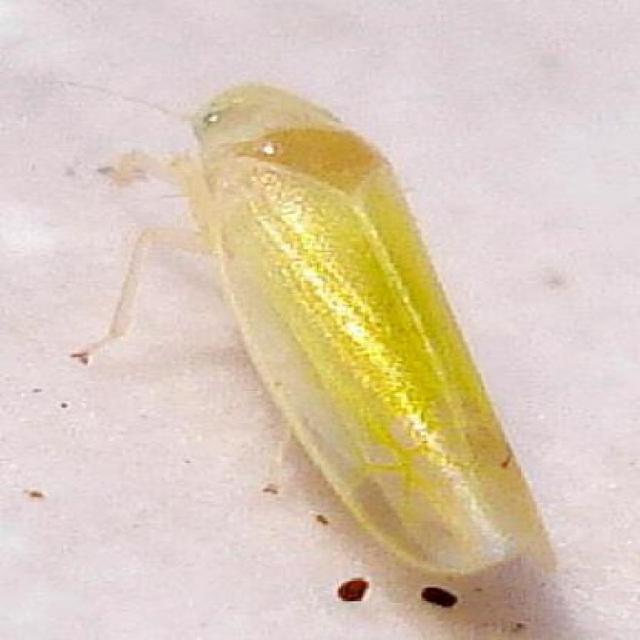green-leafhopper: (170, 81, 552, 574)
